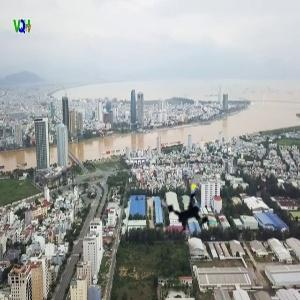drone: (160, 172, 228, 240)
